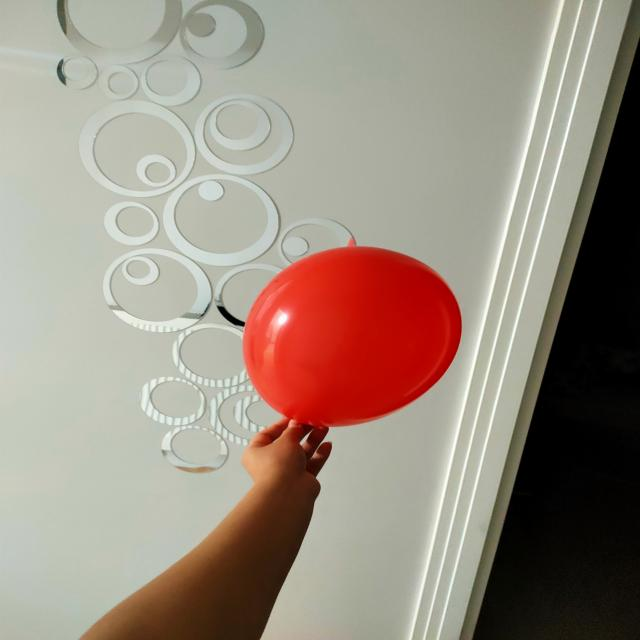red: (245, 247, 462, 428)
